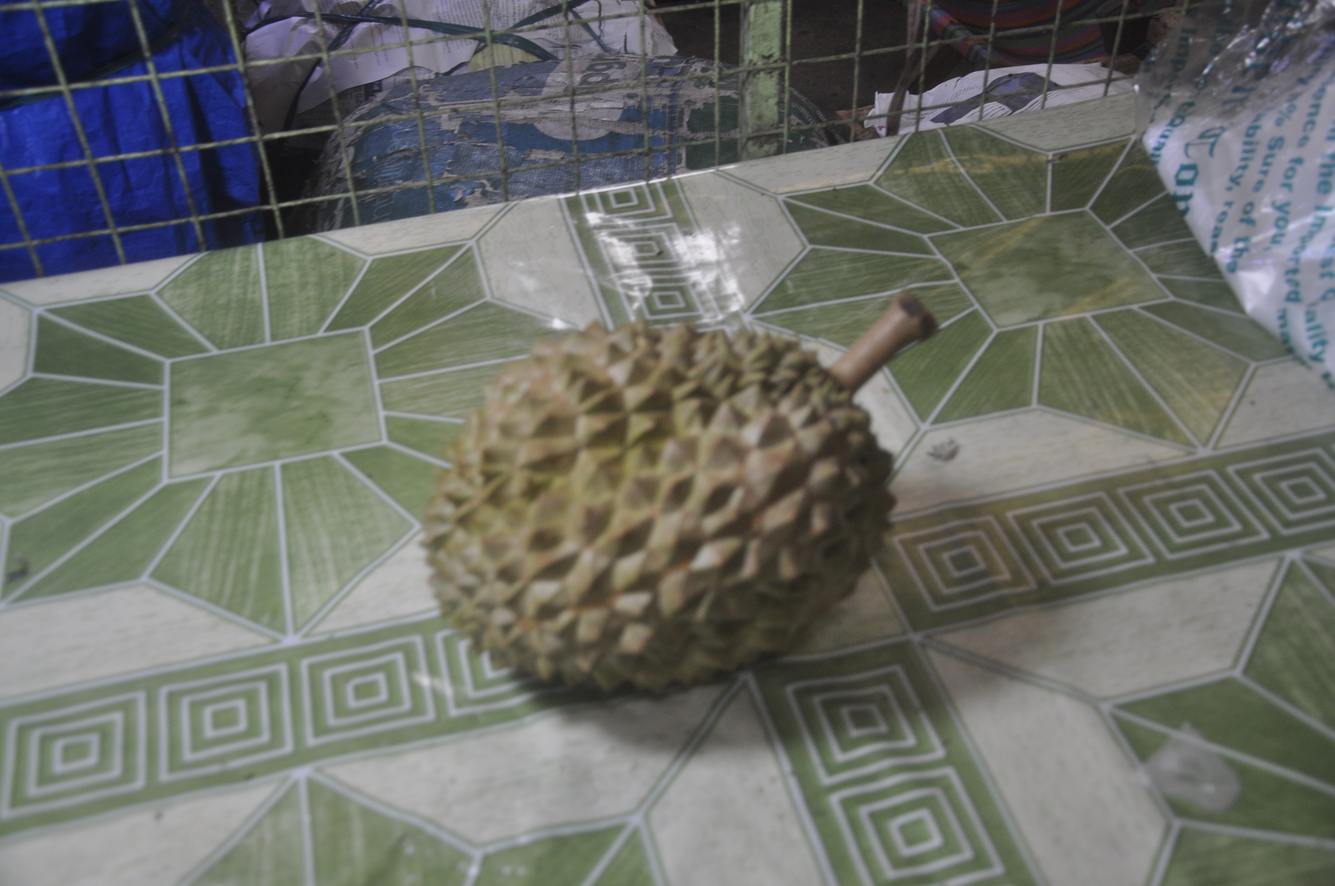mature: (424, 292, 936, 691)
